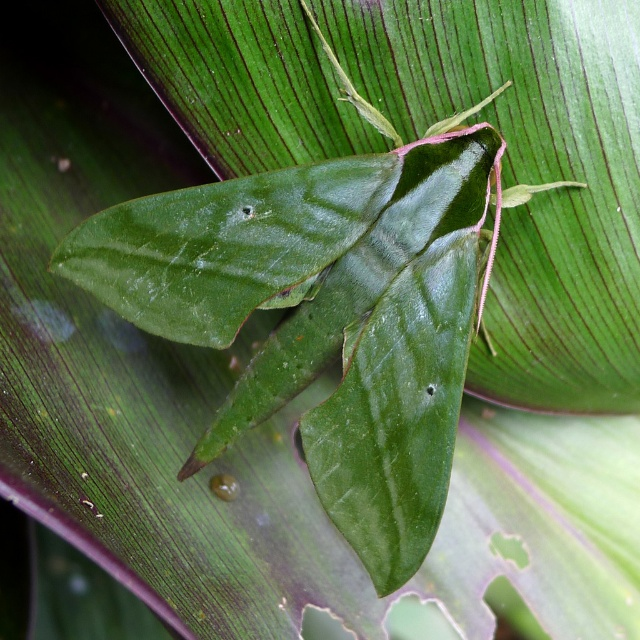Moths and butterflies: (44, 0, 587, 597)
